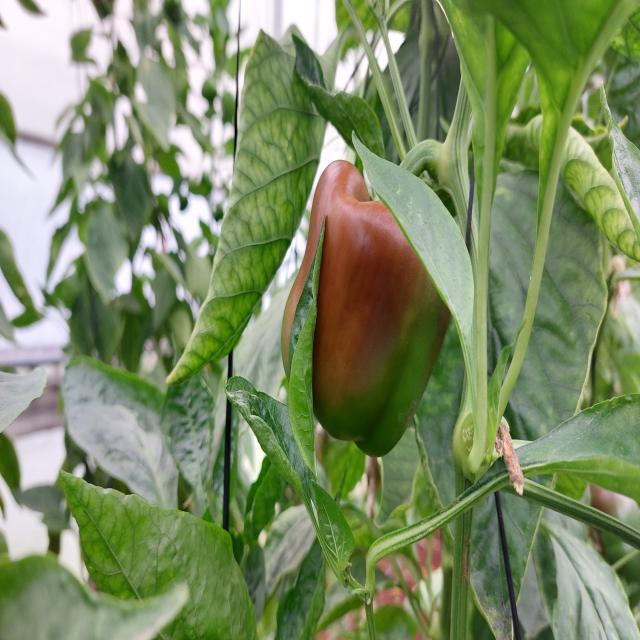BrownishRed--Can-be-Harvested: (298, 160, 450, 432)
